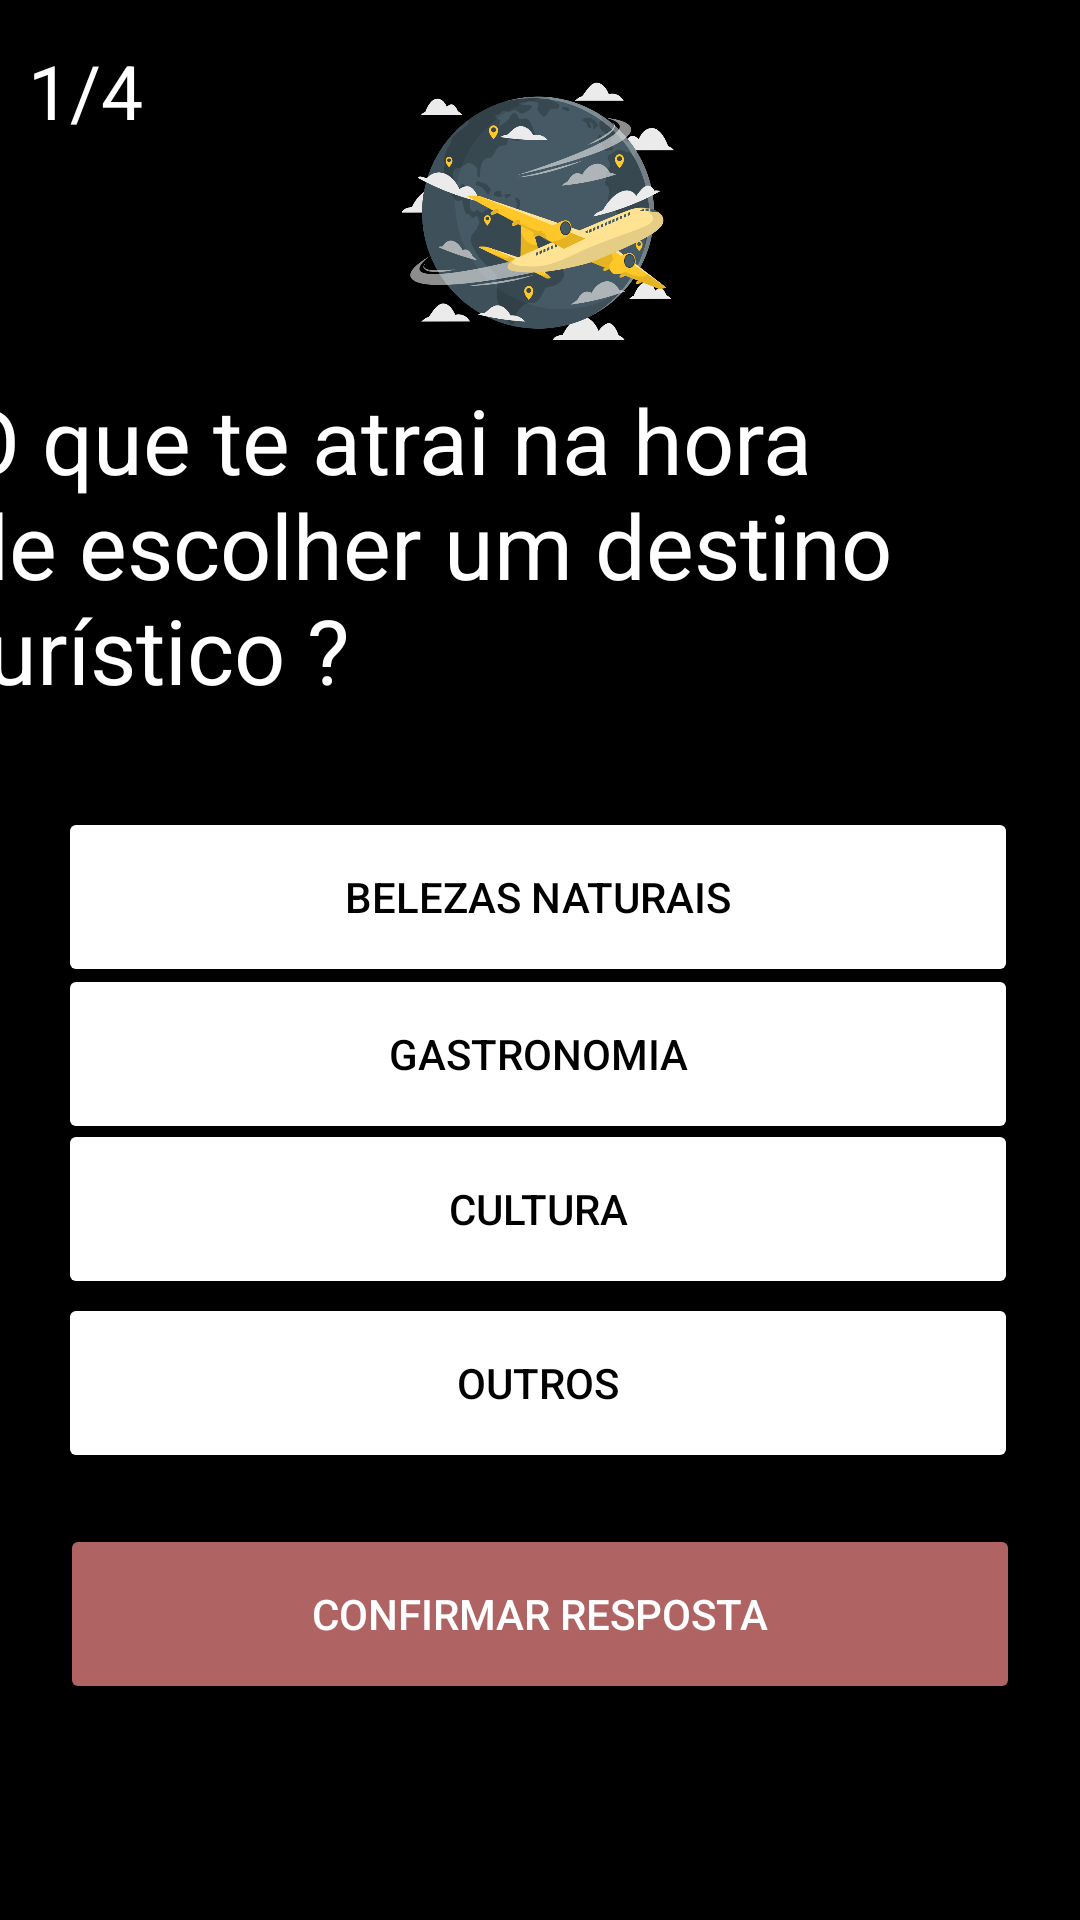

Named icons in this screenshot (1080×1920) and their bounding boxes, [x1,y1,x2,y2]:
cuateairplane: [402,82,674,340]
